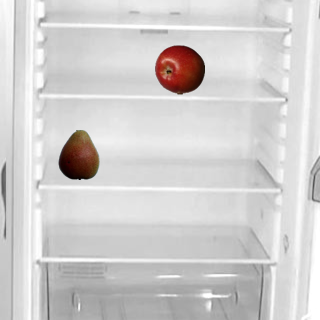Apple Braeburn: (154, 44, 204, 94)
Pear Forelle: (53, 129, 103, 179)
